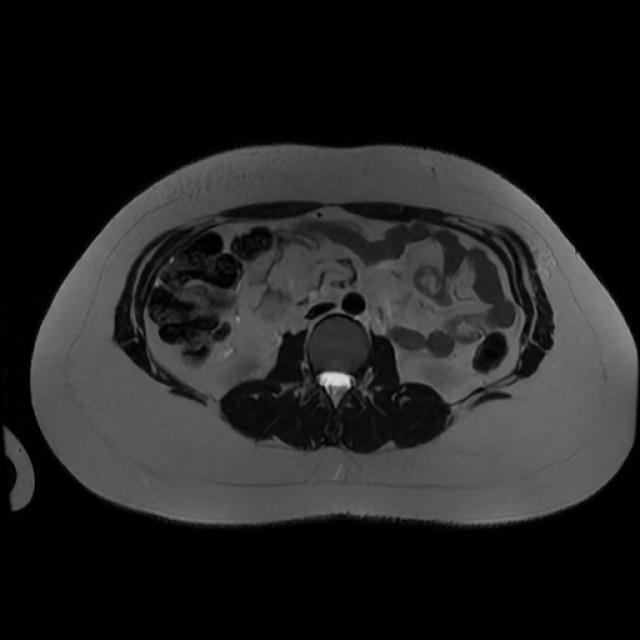sag: (229, 354, 258, 379)
sol: (429, 365, 456, 385)
